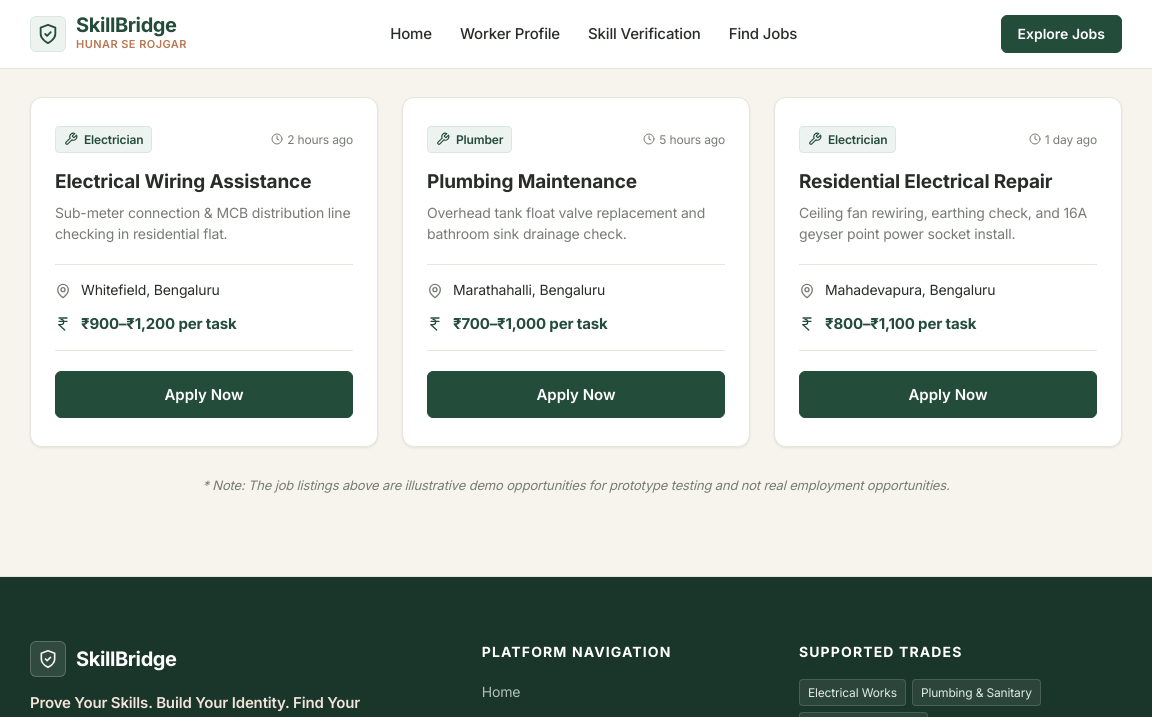
Scenario: SkillBridge Frontend Prototype v0.1 › renders all 3 required jobs and maintains separate application states
Later steps or results of the test are not shown.
(page scrolled)
Expected: the heading "Electrical Wiring Assistance" is shown, [55, 169, 353, 194]
Expected: the text "₹900–₹1,200 per task" is shown, [81, 312, 236, 336]
// Click Apply Now on JOB 1
Click the button "Apply Now" below "₹900–₹1,200 per task" at (204, 394), box [55, 371, 353, 418]
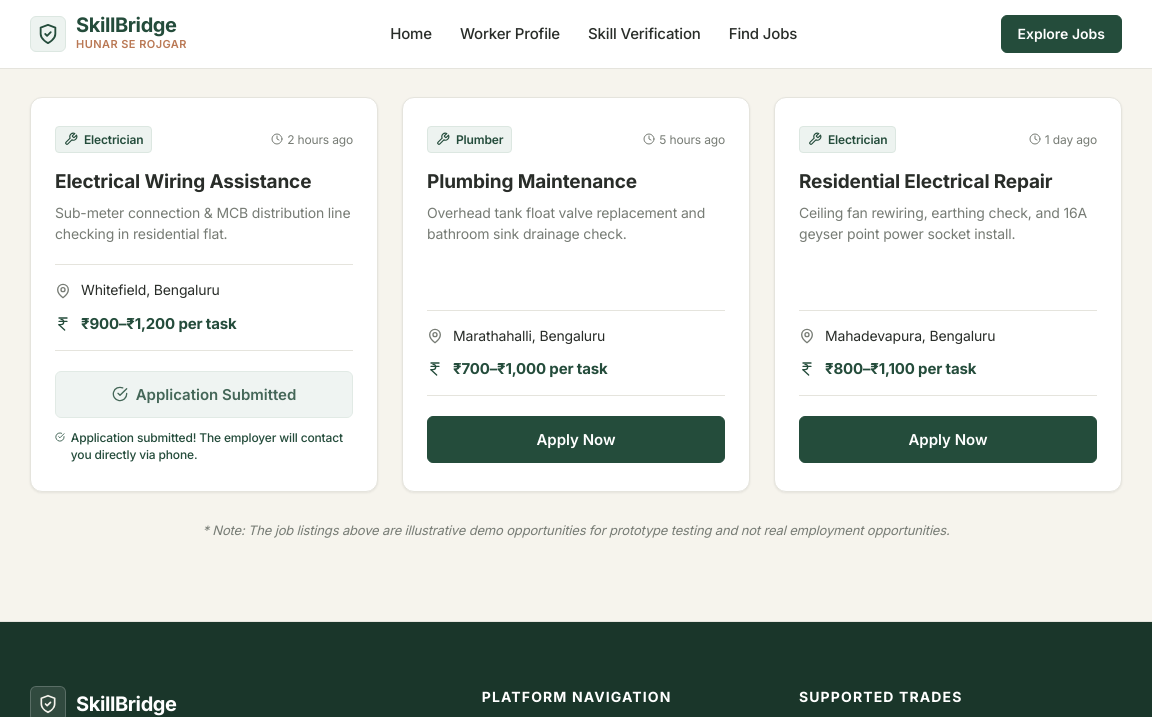
Expected: the number of buttons "Apply Now" is 2, [427, 416, 725, 463]; [799, 416, 1097, 463]
Expected: the button "Application Submitted" is disabled, [55, 371, 353, 418]
Expected: the text "Application submitted! The employer will contact you directly via phone." is shown, [71, 430, 353, 463]
